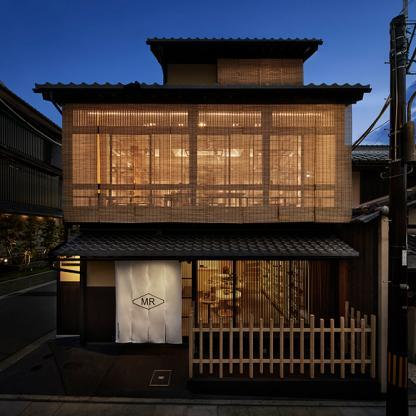Blind: (62, 103, 354, 222), (114, 260, 182, 344), (236, 260, 289, 329), (293, 260, 329, 329), (197, 260, 232, 329)
Building Outline: (32, 37, 382, 380)
Door: (153, 260, 192, 343)
Facade: (69, 85, 344, 343)
Floor: (69, 94, 340, 223)
Floor Slab: (77, 223, 340, 232), (163, 86, 302, 94)
Ground Floor: (69, 237, 340, 343)
Roof: (44, 231, 360, 257), (32, 80, 372, 94), (146, 37, 324, 45)
Top Floor: (163, 45, 302, 86)
Window: (236, 260, 289, 329), (293, 260, 329, 329), (197, 260, 232, 329), (153, 134, 190, 183), (73, 134, 110, 183), (113, 134, 150, 183), (72, 111, 188, 126), (230, 134, 262, 183), (197, 134, 228, 183), (305, 134, 336, 183), (270, 134, 301, 183), (198, 111, 260, 126), (273, 111, 334, 126), (261, 68, 298, 84), (221, 68, 257, 84)
